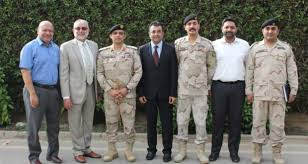uniform: (245, 39, 301, 162), (171, 33, 214, 162), (96, 45, 141, 161)
